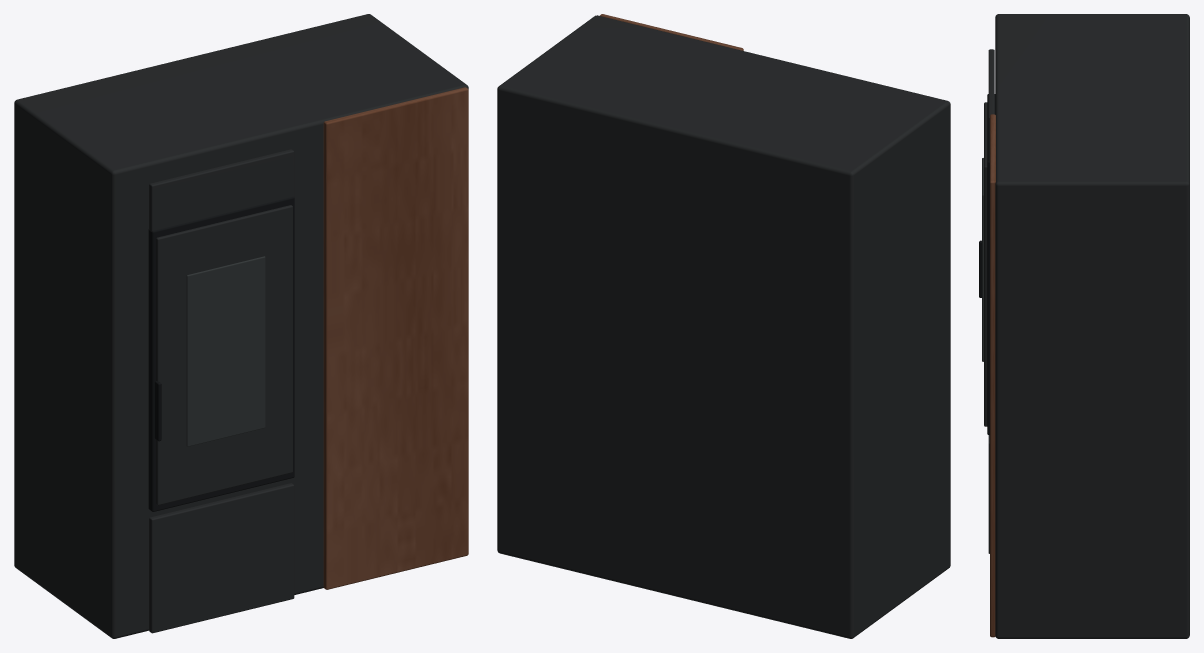
Rendered from nordica-annalisa-plus-gres-evo-gres-corten.glb.
The picture shows the model from 3 angles, left to right: view 1: azimuth 30°, elevation 25°; view 2: azimuth 150°, elevation 25°; view 3: azimuth 270°, elevation 25°; orthographic projection. The views are drawn at different scales.
Visible parts, largest first — view 1: Corpo.001, Pannello laterale.001, Sportello.002, Pannello inferiore.001, Vetro sportello.001, Pannello superiore.001, Cornice sportello.001; view 2: Corpo.001; view 3: Corpo.001, Pannello laterale.001, Sportello.002, Cornice sportello.001, Pannello superiore.001, Vetro sportello.001.
Boxes of the visible parts, left/top/right/bottom form: Corpo.001: left=14, top=14, right=468, bottom=638; Pannello laterale.001: left=323, top=87, right=468, bottom=589; Sportello.002: left=156, top=205, right=292, bottom=505; Pannello inferiore.001: left=149, top=483, right=294, bottom=633; Vetro sportello.001: left=186, top=256, right=265, bottom=446; Pannello superiore.001: left=149, top=149, right=294, bottom=231; Cornice sportello.001: left=148, top=196, right=294, bottom=511; Corpo.001: left=497, top=15, right=950, bottom=638; Corpo.001: left=995, top=14, right=1189, bottom=638; Pannello laterale.001: left=990, top=114, right=995, bottom=637; Sportello.002: left=984, top=102, right=987, bottom=426; Cornice sportello.001: left=987, top=94, right=995, bottom=435; Pannello superiore.001: left=988, top=49, right=994, bottom=162; Vetro sportello.001: left=982, top=158, right=983, bottom=361.
Size of the model in its own units: 0.902 by 1.13 by 0.472.
4 materials, 1 textured.
